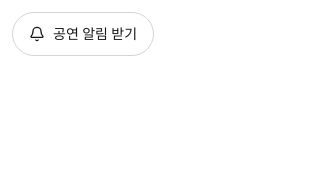
Test case: WatchlistButton › stores a work for the signed-in user and updates its state
Click the button "공연 알림 받기" at point(83, 34), box [12,12,154,56]
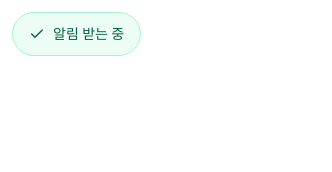
Check: the button "알림 받는 중" is shown, box [12,12,141,56]
